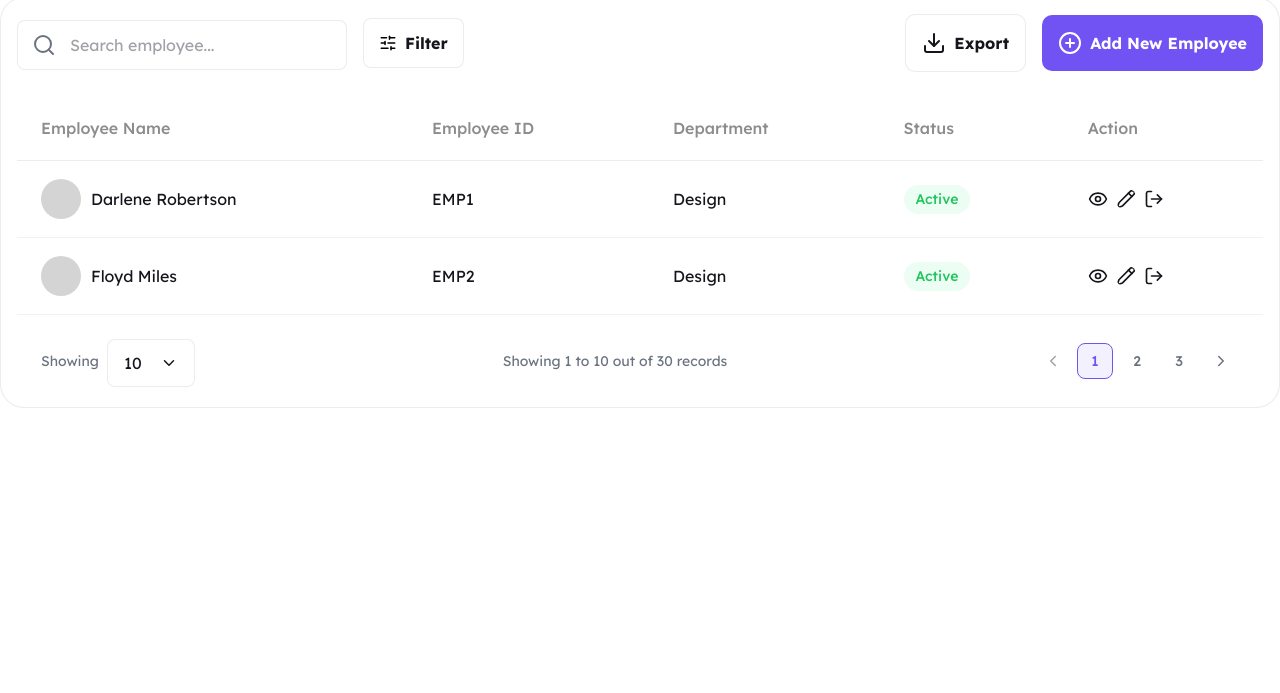
EmployeesDashboard › discards a response that a newer request has overtaken
Step 1. Click the button "2" → (1137, 361), box [1119,343,1155,379]
(page scrolled)
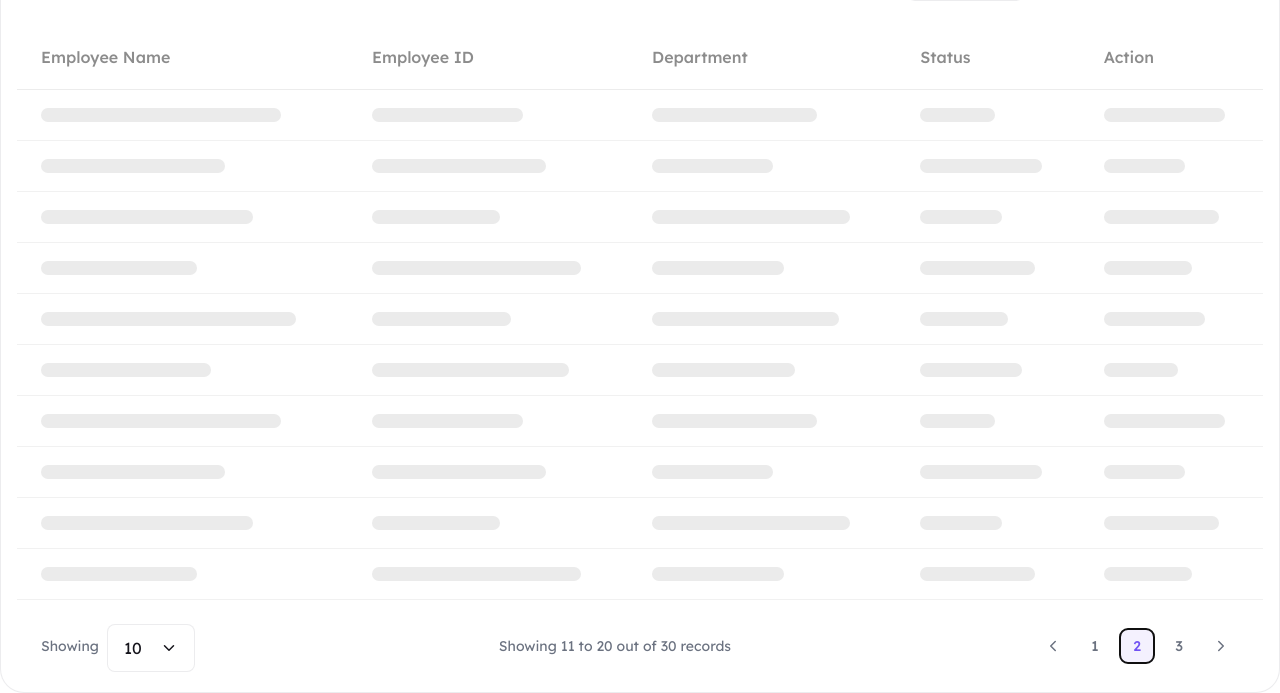
Step 2. Click the button "3" → (1179, 646), box [1161,628,1197,664]
(page scrolled)
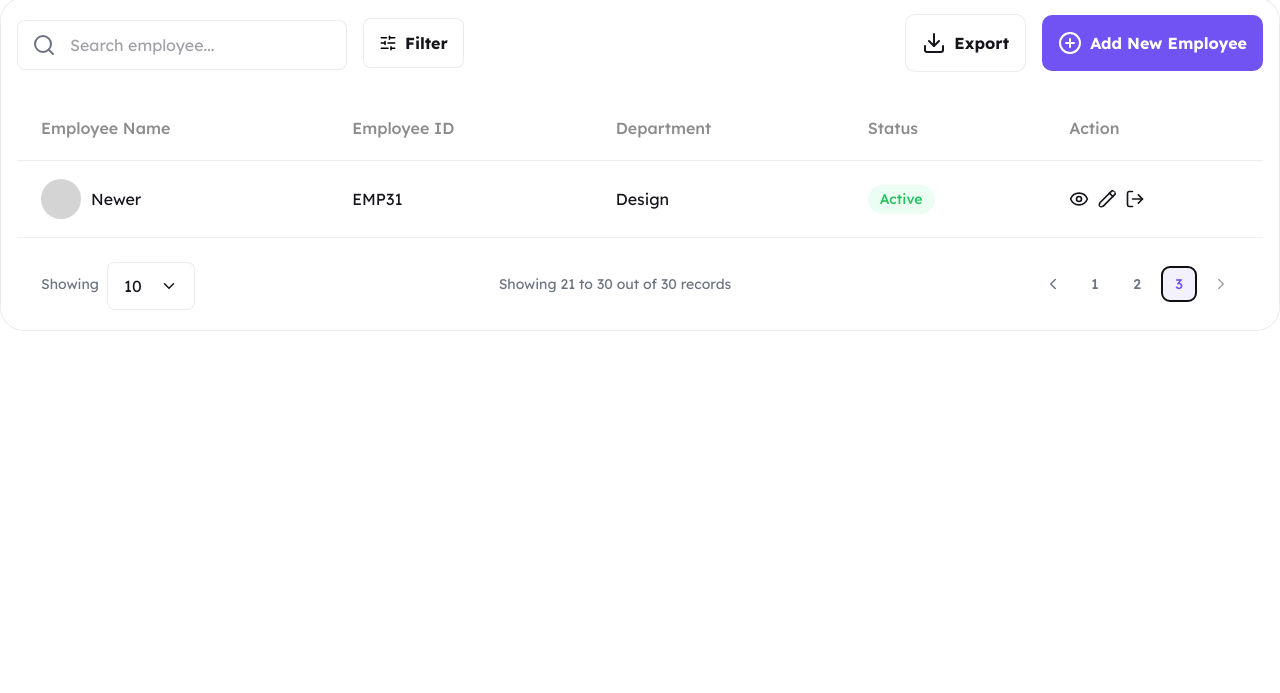
Expected: the text "Newer" is shown, [91,187,141,211]
